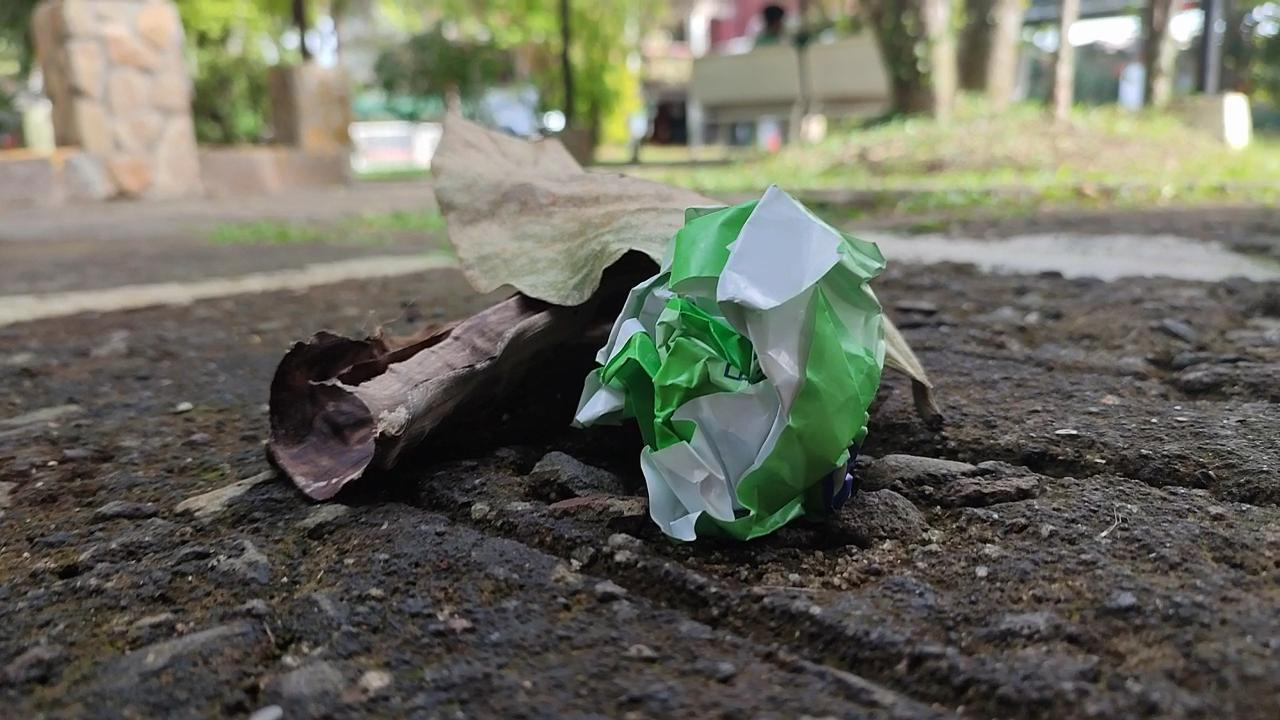Paper: (551, 168, 905, 550)
